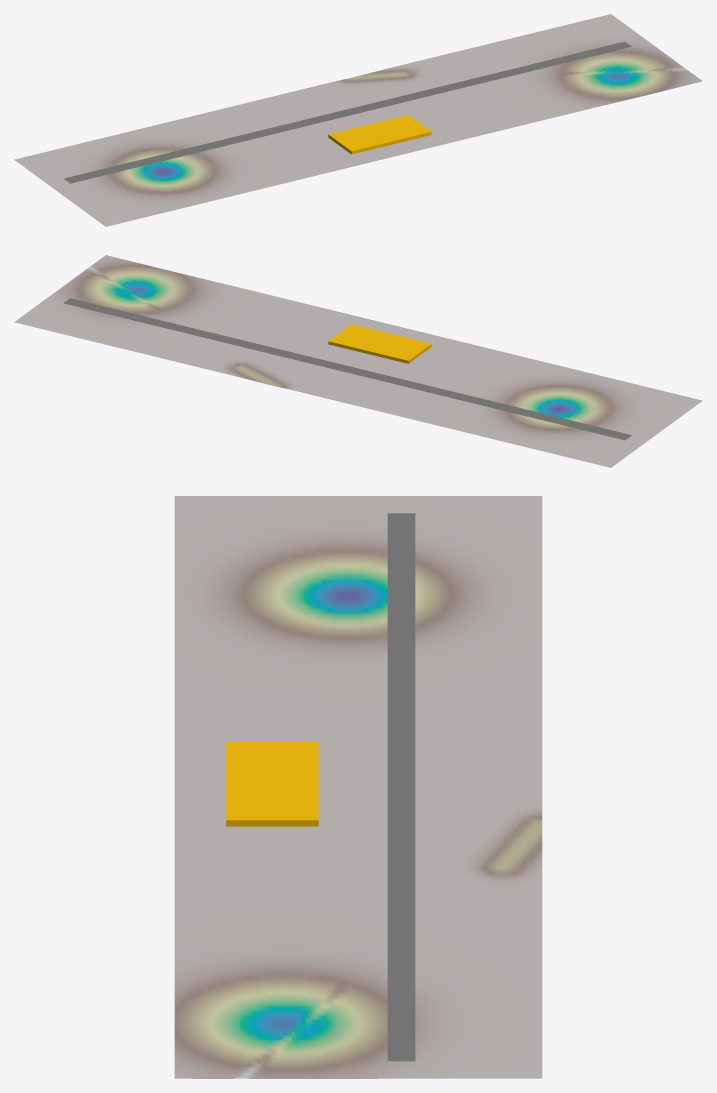
File: final_airport_design.glb
3 views of the same model, one above another, from view 1: azimuth 30°, elevation 25°; view 2: azimuth 150°, elevation 25°; view 3: azimuth 270°, elevation 25° (orthographic). The views are drawn at different scales.
Visible parts, largest first — view 1: world; view 2: world; view 3: world.
Boxes of the visible parts, x1,y1,x2,y2 form: world: [14, 14, 702, 226]; world: [14, 255, 702, 467]; world: [174, 496, 542, 1078].
Size of the model in its own units: 2977 by 20.49 by 794.
